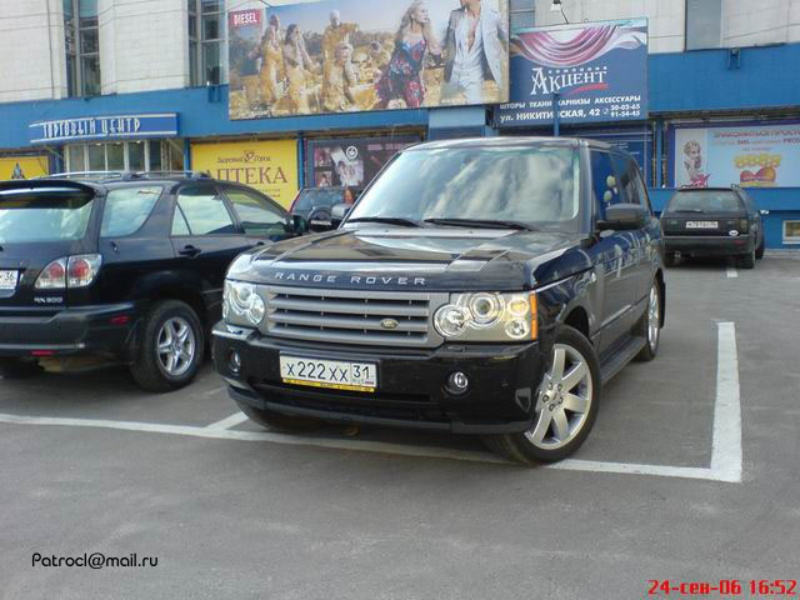car: (211, 139, 667, 465), (1, 177, 311, 389), (659, 187, 766, 268)
plate: (279, 354, 376, 385)
